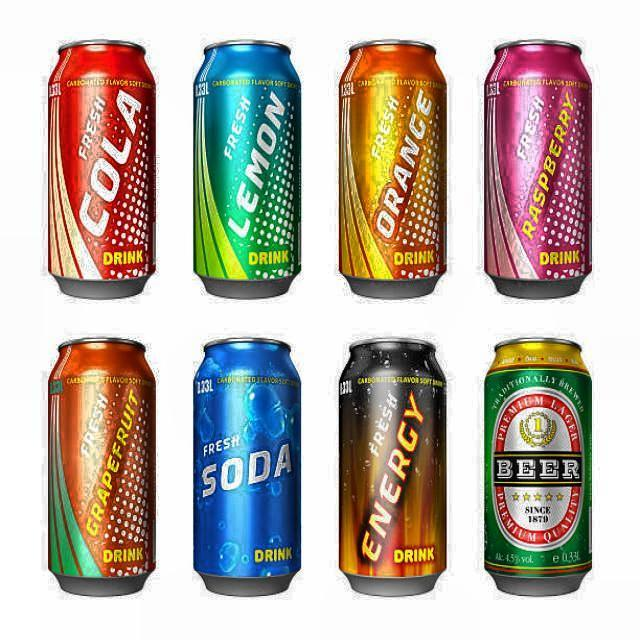metal: (483, 41, 594, 302), (483, 340, 594, 600), (192, 338, 302, 600), (192, 39, 302, 300), (338, 40, 448, 301), (47, 41, 157, 301), (47, 339, 157, 598), (338, 340, 447, 599)
